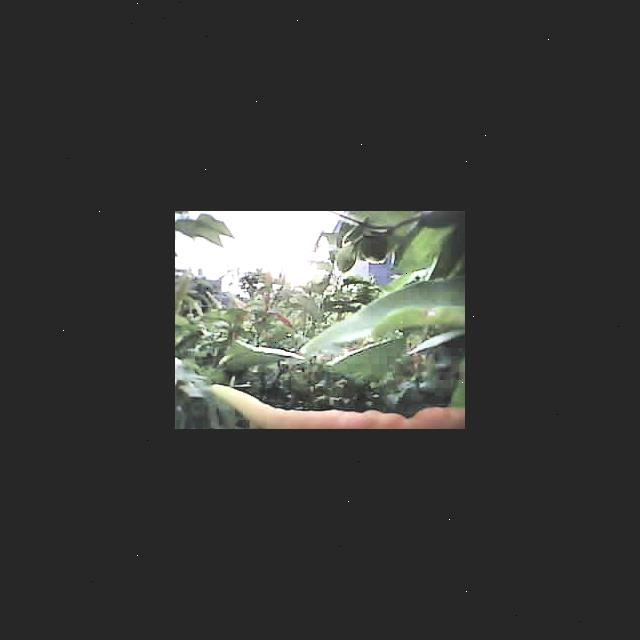Cabai: (208, 382, 465, 429)
